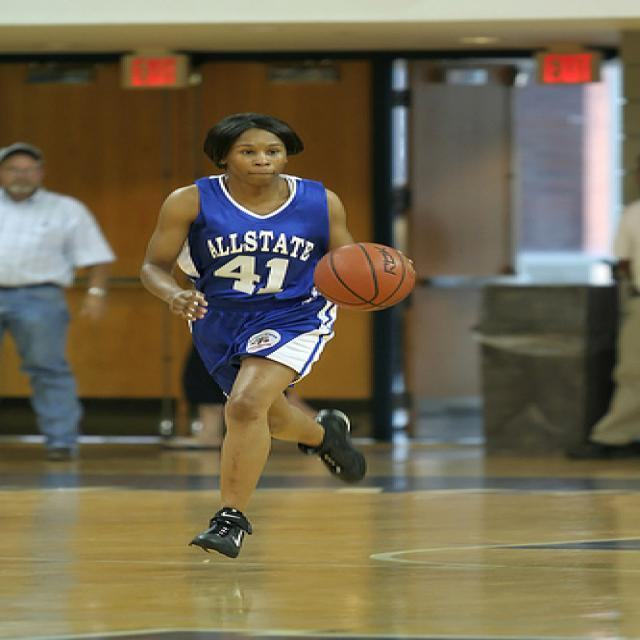basketball: (317, 241, 416, 315)
